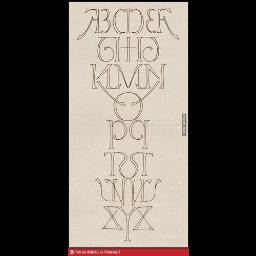p: (102, 116, 130, 152)
q: (130, 113, 152, 149)
x: (132, 204, 156, 234), (102, 206, 124, 232)
